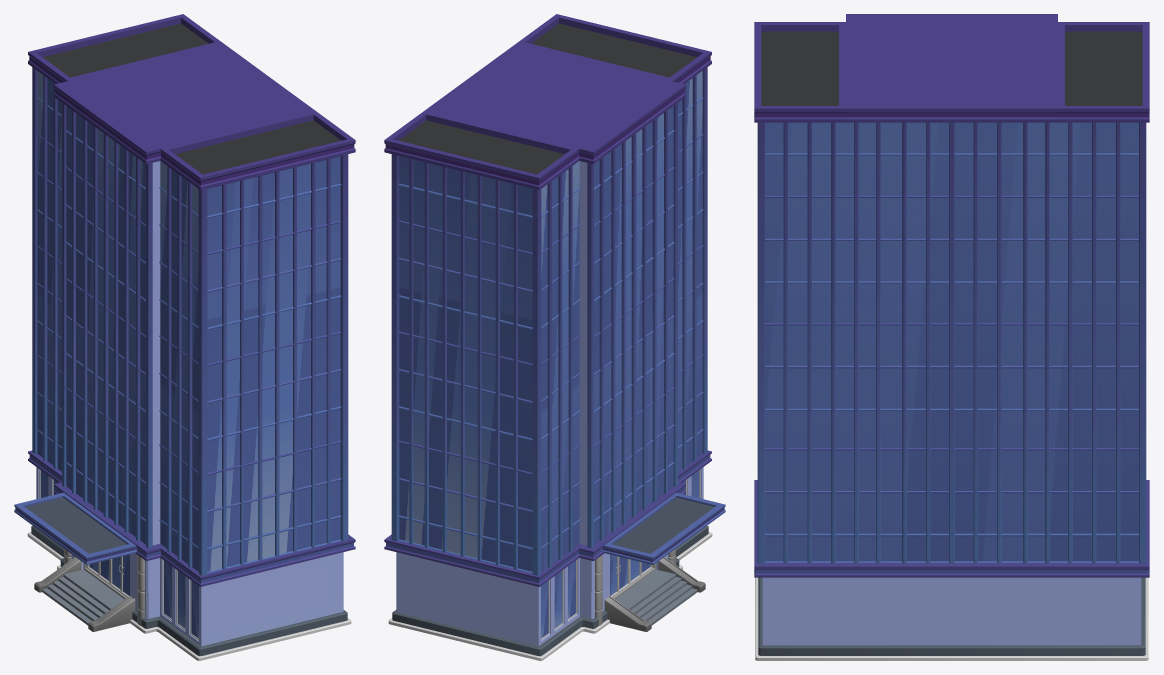
File: Building_17_2_C.fbx
The picture shows the model from 3 angles, left to right: view 1: azimuth 30°, elevation 25°; view 2: azimuth 150°, elevation 25°; view 3: azimuth 270°, elevation 25°; orthographic projection. The views are drawn at different scales.
Parts seen in each view (by area): view 1: Building_17_2_C; view 2: Building_17_2_C; view 3: Building_17_2_C.
Boxes of the visible parts, <box> form: Building_17_2_C: <box>14,14,355,660</box>; Building_17_2_C: <box>384,14,725,660</box>; Building_17_2_C: <box>754,14,1149,660</box>.
Bounding box in the file's own units: 857 × 1805 × 1168.
